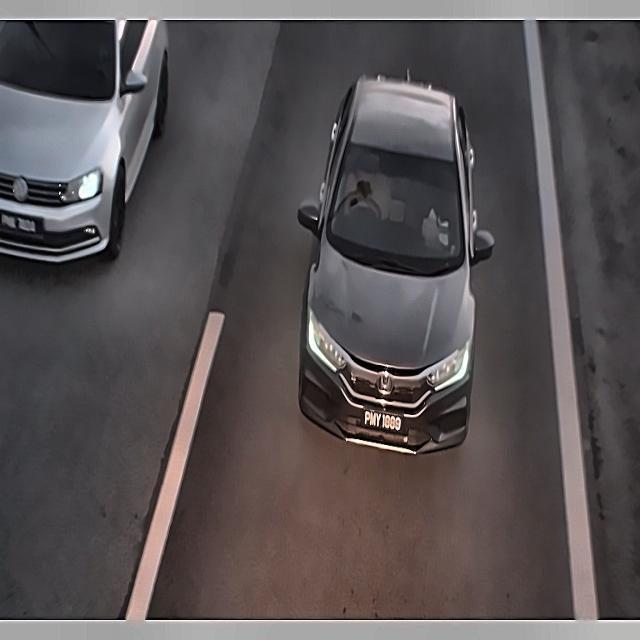car: (350, 400, 411, 444), (0, 206, 46, 244)
